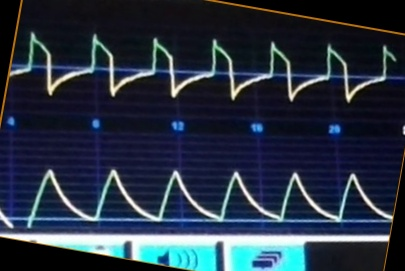Normal Flow: (18, 27, 397, 112)
Normal Volume: (1, 155, 390, 228)
